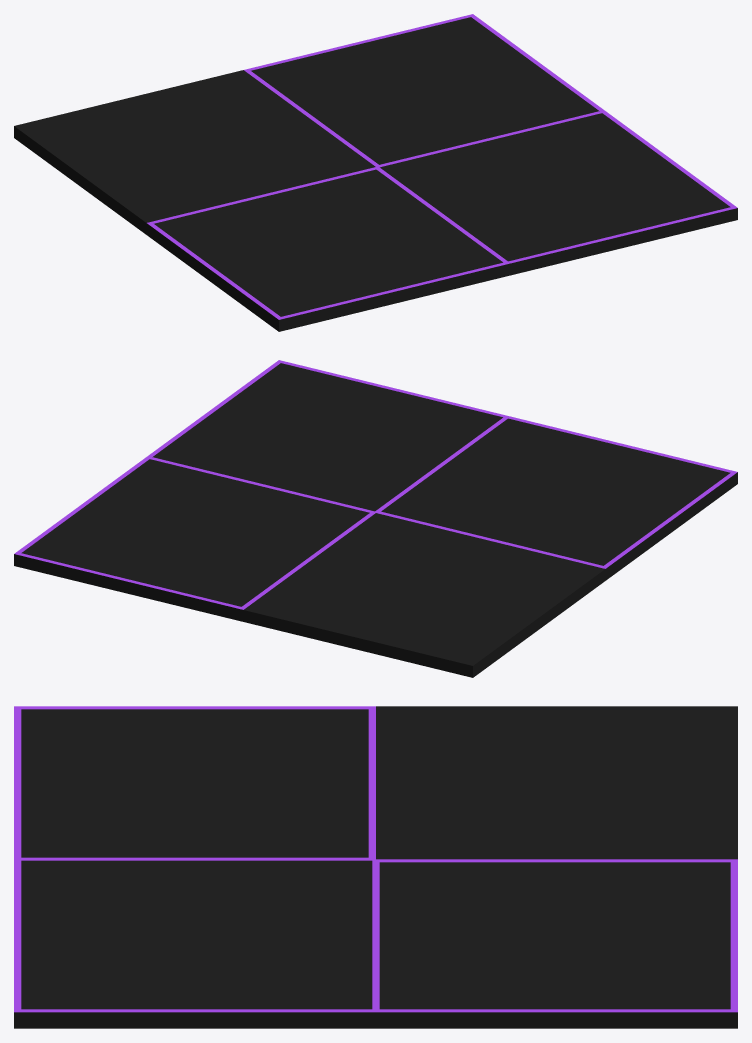
The picture shows the model from 3 angles, top to bottom: view 1: azimuth 30°, elevation 25°; view 2: azimuth 150°, elevation 25°; view 3: azimuth 270°, elevation 25°; orthographic projection. The views are drawn at different scales.
Visible parts, largest first — view 1: Cube; view 2: Cube; view 3: Cube.
Part boxes in pixels (x1,y1,x2,y2): Cube: [14, 14, 737, 331]; Cube: [14, 360, 737, 677]; Cube: [14, 706, 737, 1028].
Bounding box in the file's own units: 200 × 5 × 200.
